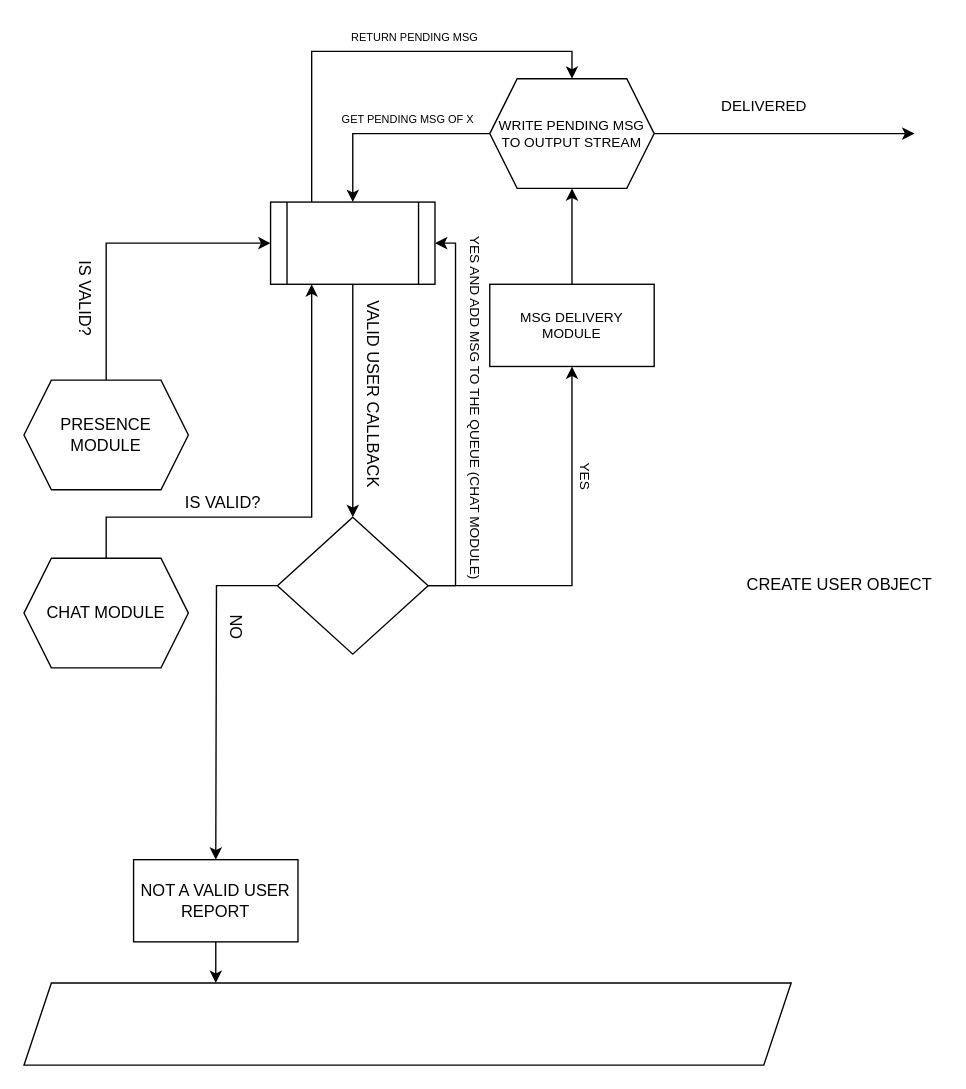
Some shapes in this 966 by 1089 pixel diagram are drawn without their labels. The shapes that lost their labels are listed below. From the top down, each one's centre as x and y in pixels, then its label:
At point 352,242: "USER MODULE".
At point 352,585: "YES/ NO".
